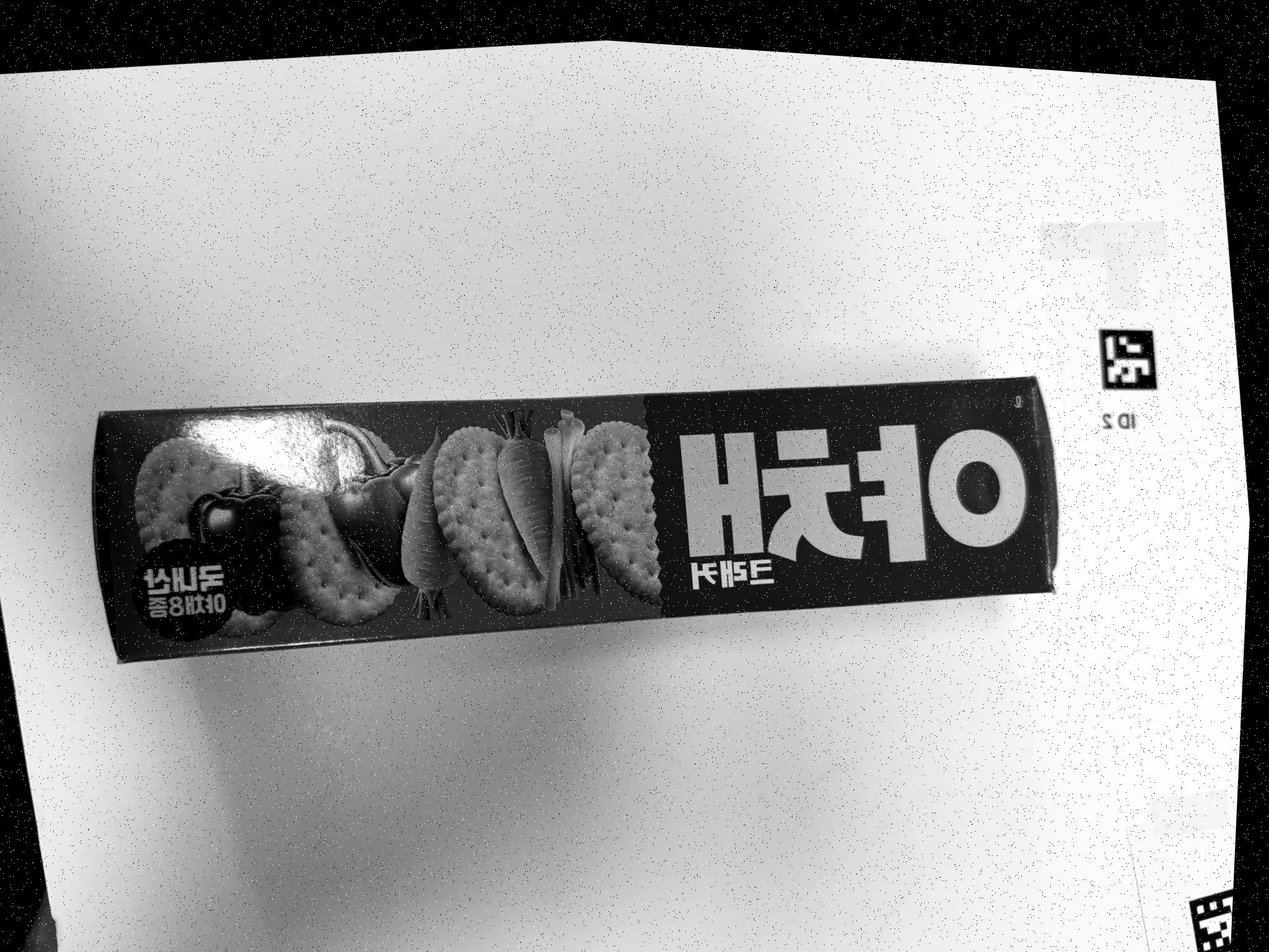cracker_vege: (92, 377, 1058, 661)
